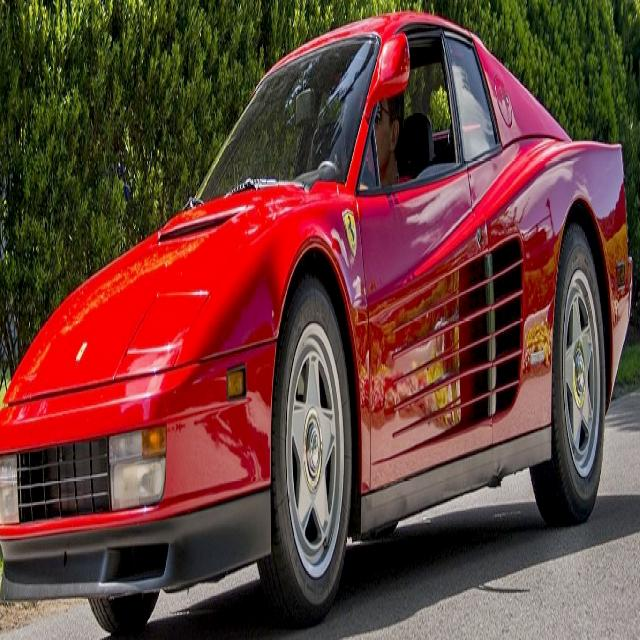red: (0, 11, 634, 596)
